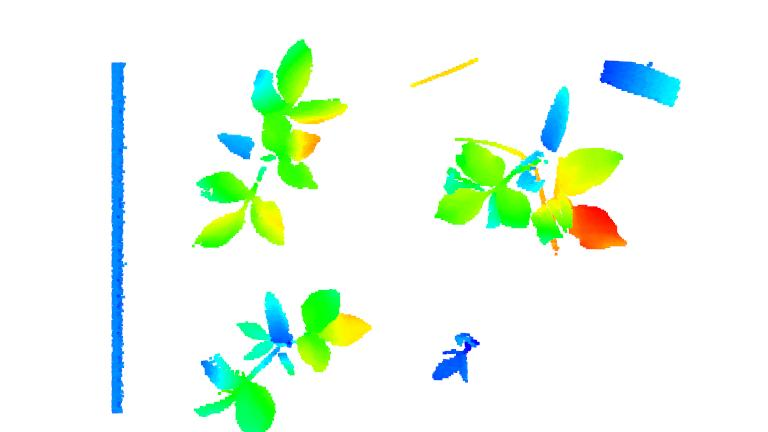mungbean: (188, 42, 348, 251), (438, 83, 633, 248), (187, 284, 375, 430), (428, 327, 494, 385)
